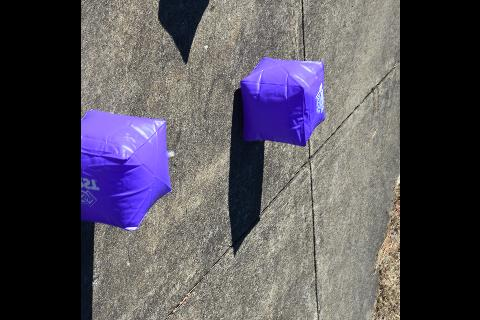cube: (80, 110, 172, 230), (240, 56, 324, 146)
